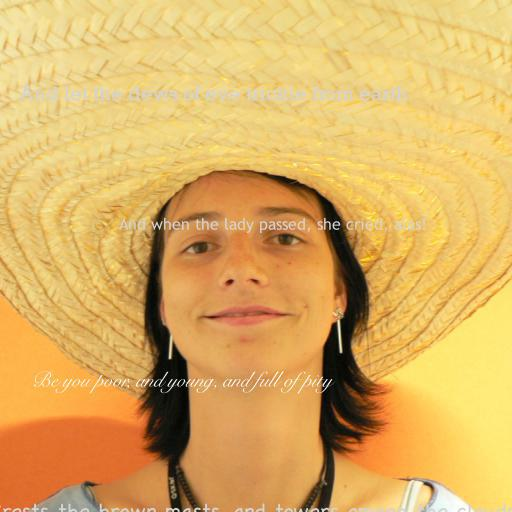Chalkboard: (0, 503, 512, 512)
Rockwell: (18, 86, 408, 101)
Snell Roundhand: (32, 371, 332, 394)
Trebuchet MS: (119, 217, 427, 234)
